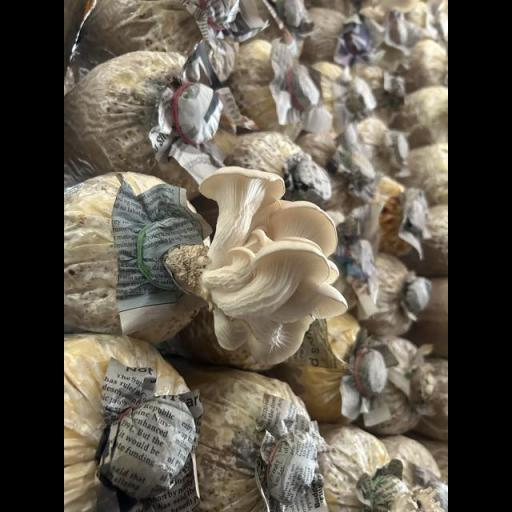White Oyster Mushroom: (179, 146, 356, 365)
